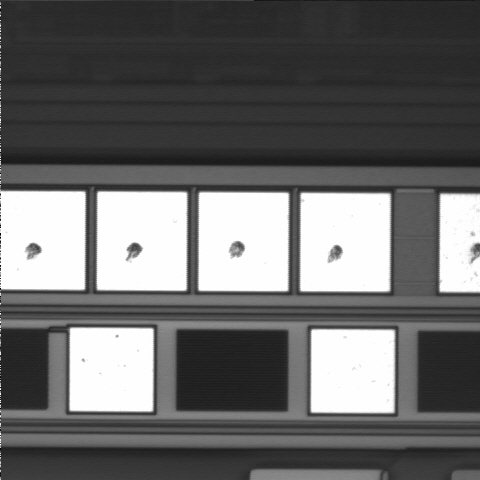pad: (97, 192, 187, 291), (199, 192, 289, 291), (300, 193, 390, 291), (311, 329, 395, 413), (70, 328, 153, 411)
